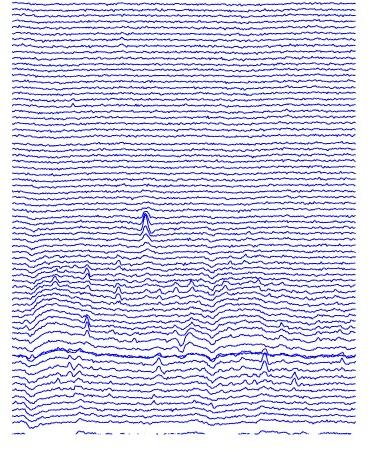defect: (134, 204, 166, 251), (144, 345, 171, 382), (154, 280, 198, 302), (172, 313, 195, 355), (66, 346, 83, 389), (206, 376, 222, 412), (77, 310, 96, 336), (336, 344, 351, 374), (260, 347, 275, 375), (80, 263, 95, 290), (288, 365, 301, 387), (114, 282, 128, 302)
